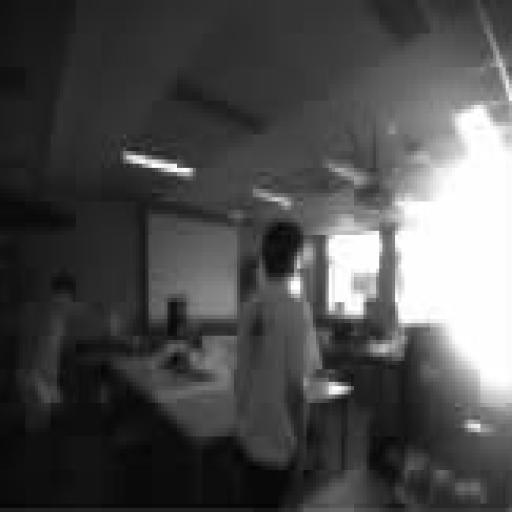human: (234, 219, 322, 507), (16, 273, 75, 432)
